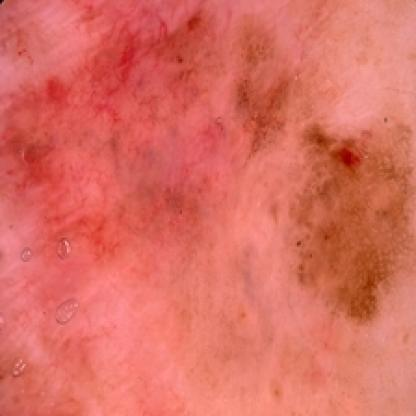Skin_Cancer-Malignant: (287, 117, 416, 324)
